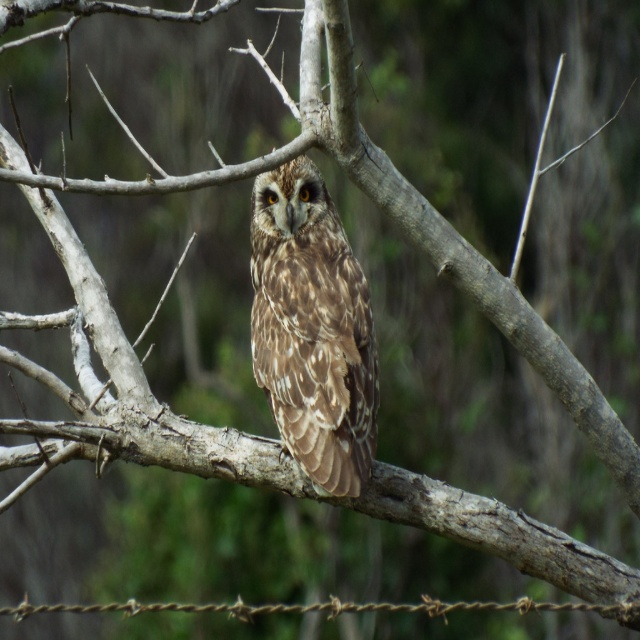Owl: (251, 161, 387, 512)
